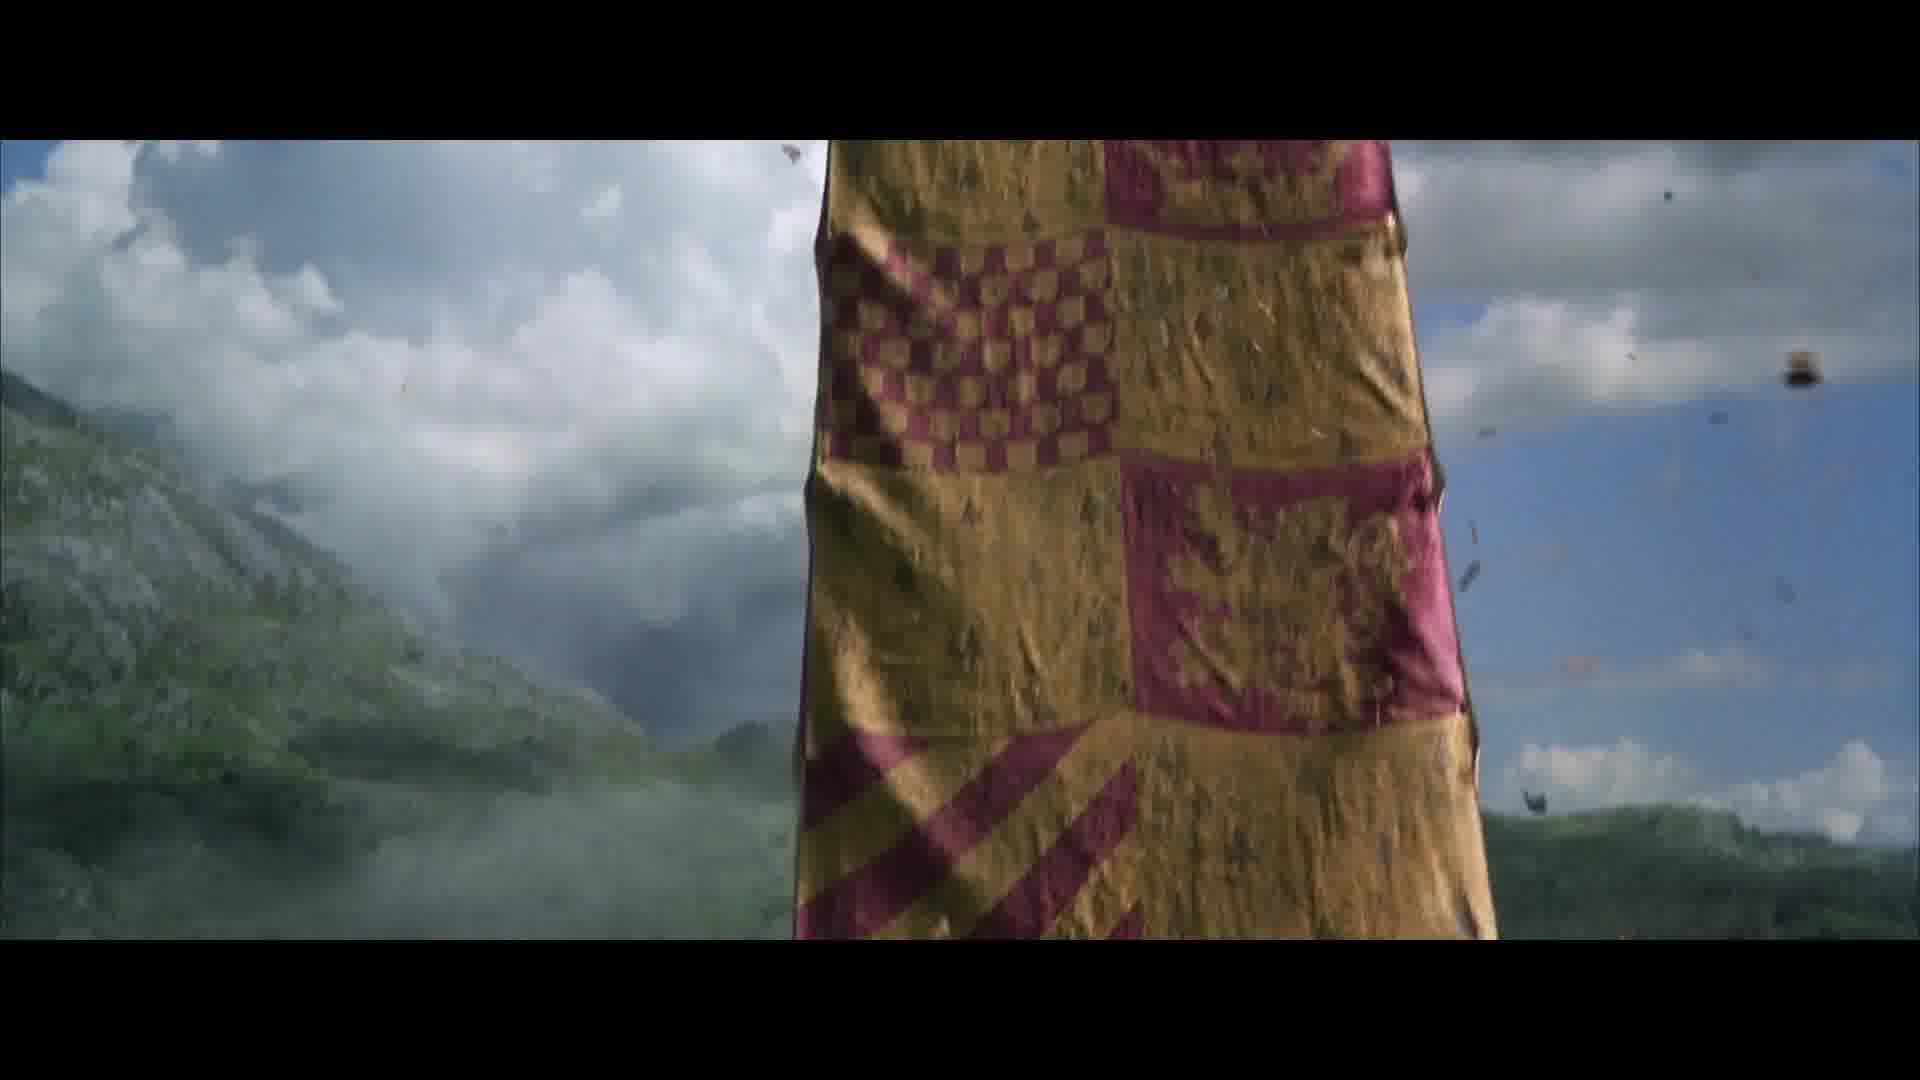bludger: (1778, 347, 1828, 394)
